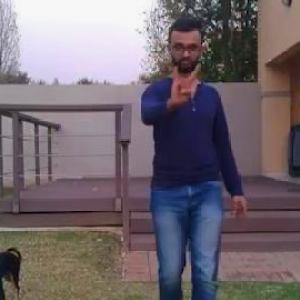takeoff-hand: (157, 57, 203, 109)
